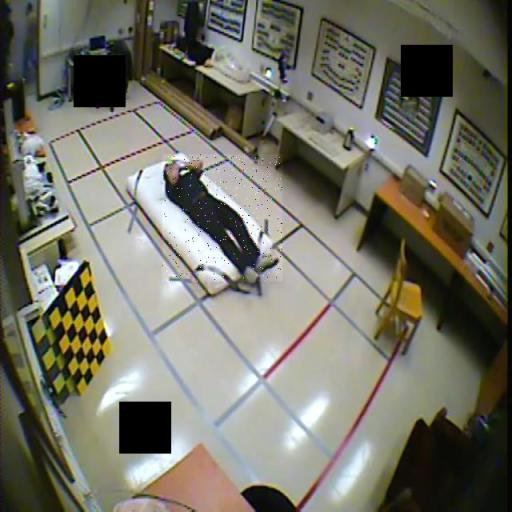Fall: (163, 155, 283, 282)
